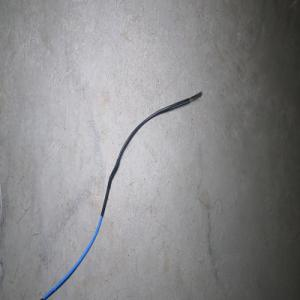Wire: (39, 90, 202, 300)
